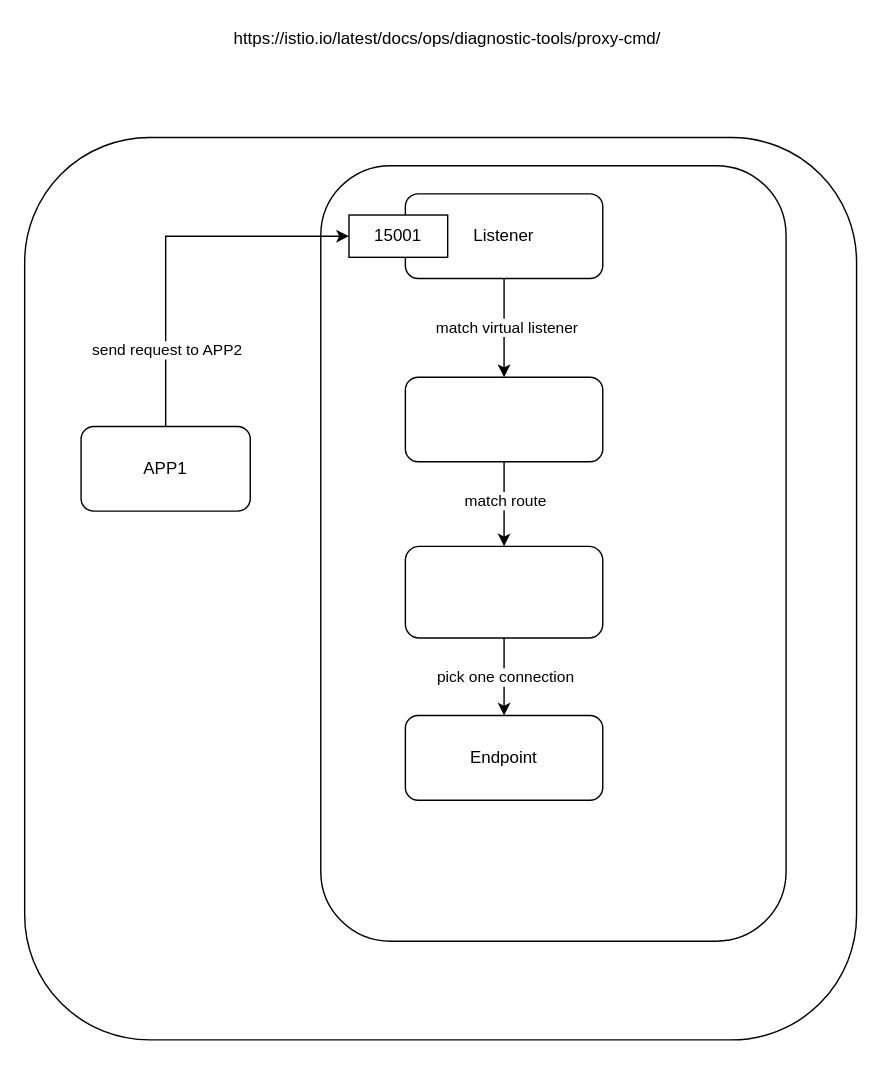
Image size: 881x1065. Some labels were removed from this diagram. Each missing label, with the centre of its shape:
"Cluster" belongs at [503,591].
"Route" belongs at [503,419].
